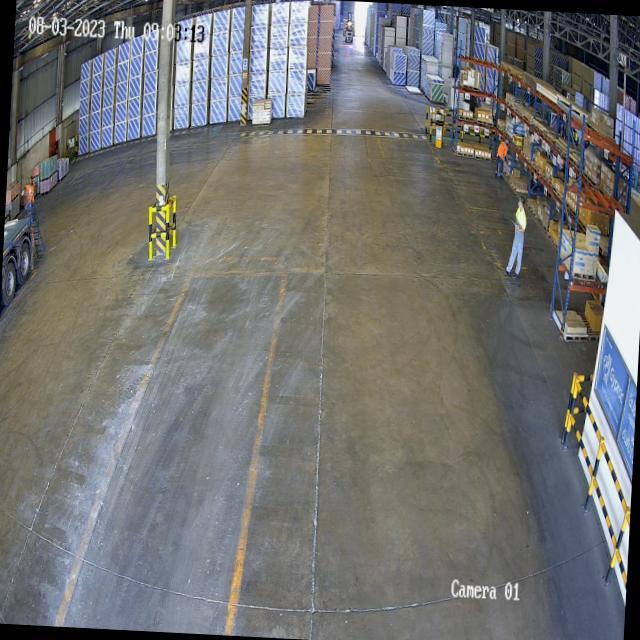person: (504, 190, 528, 279), (494, 136, 508, 178), (23, 176, 36, 215)
